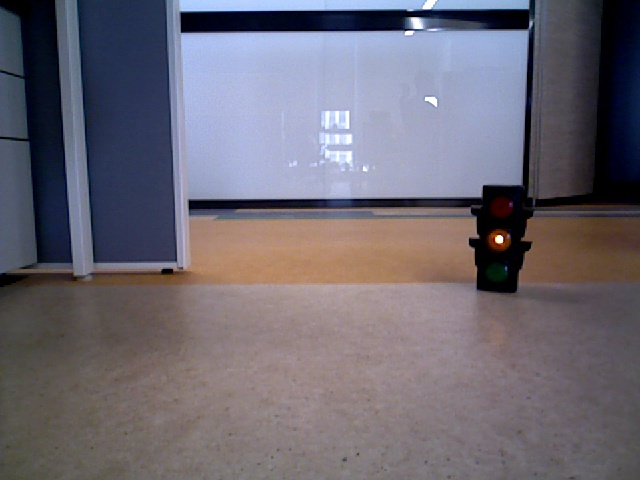yellow: (480, 187, 517, 291)
